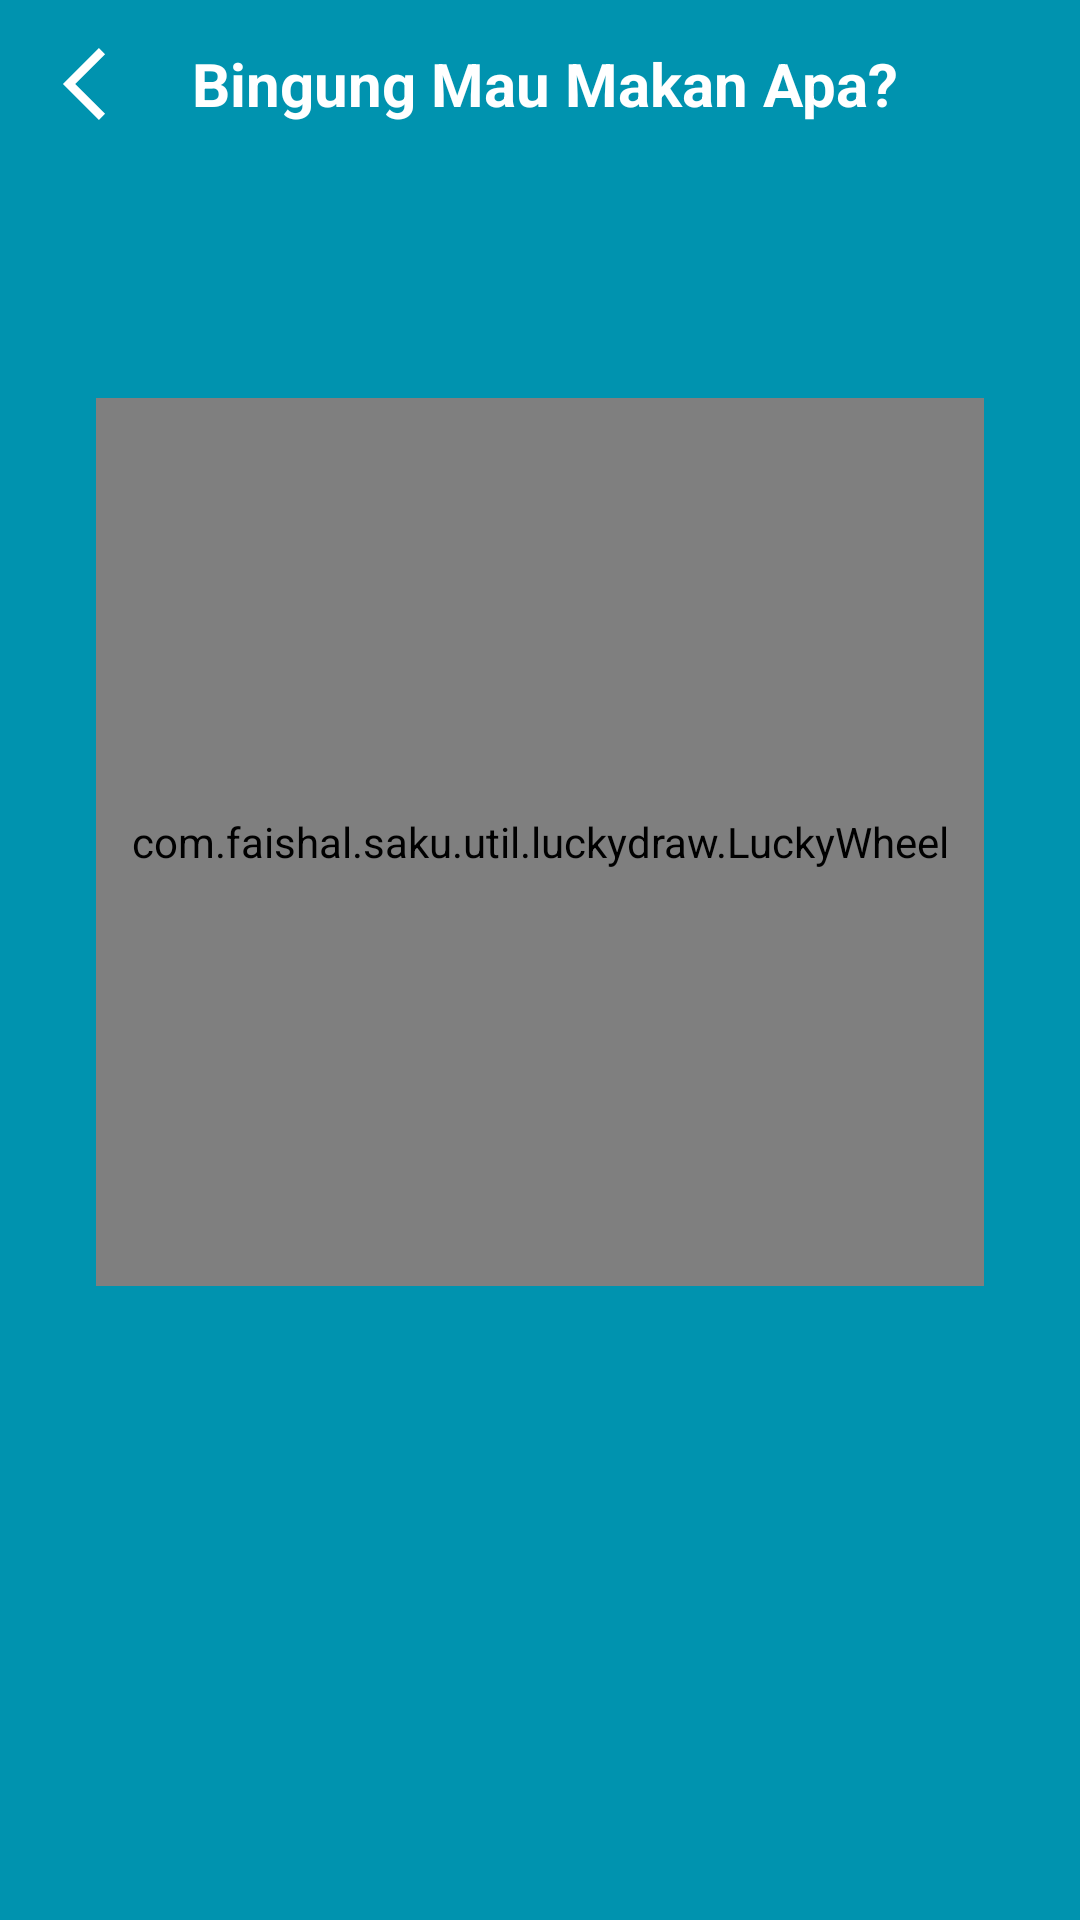

Named icons in this screenshot (1080 × 1920) and their bounding boxes, (x1, y1, x2, y2):
back arrow: (63, 48, 105, 120)
